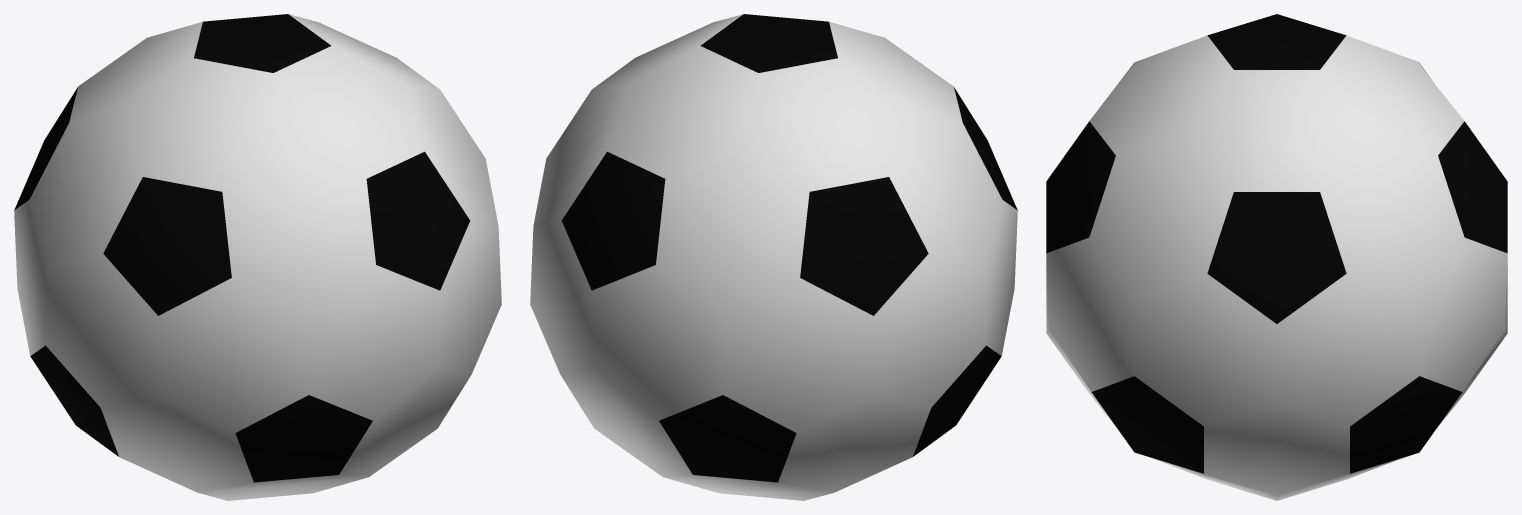
File: BolaFutebol.fbx
3 renders of one model, left to right at view 1: azimuth 30°, elevation 25°; view 2: azimuth 150°, elevation 25°; view 3: azimuth 270°, elevation 25°, orthographic.
Visible parts, largest first — view 1: BolaFutebol; view 2: BolaFutebol; view 3: BolaFutebol.
Part boxes in pixels (box(x1,y1,x2,y2)): BolaFutebol: box(14, 14, 501, 500); BolaFutebol: box(530, 14, 1017, 500); BolaFutebol: box(1046, 14, 1507, 500).
Bounding box in the file's own units: 26.04 × 25.18 × 24.77.
